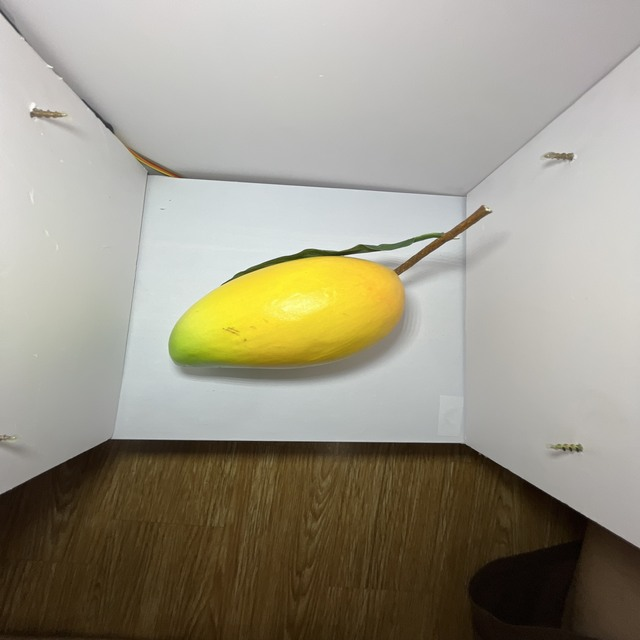Xoai: (143, 218, 423, 419)
